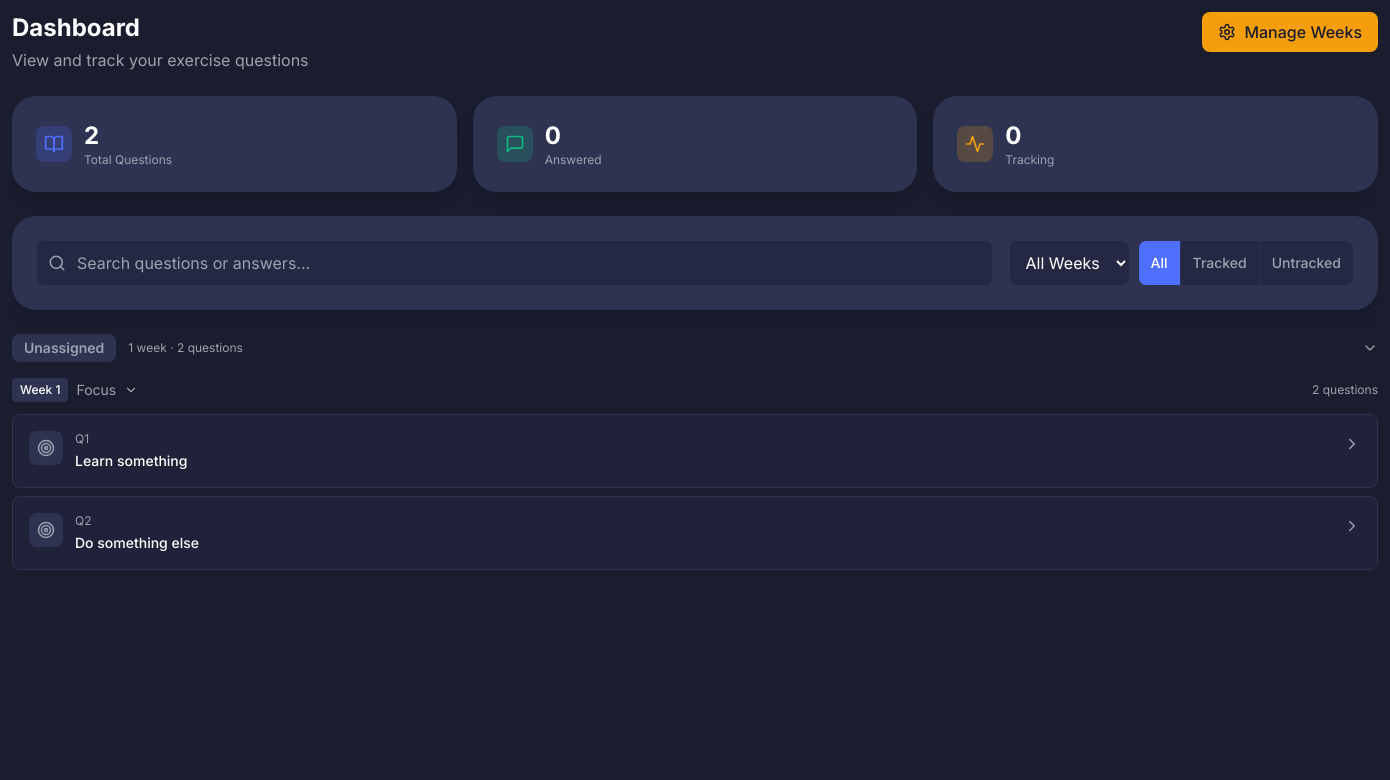
DashboardPage › filters questions by search query
Type "Learn" into the field with placeholder "Search questions or answers...".
click(514, 263); type("Learn")  # box [36, 240, 993, 286]
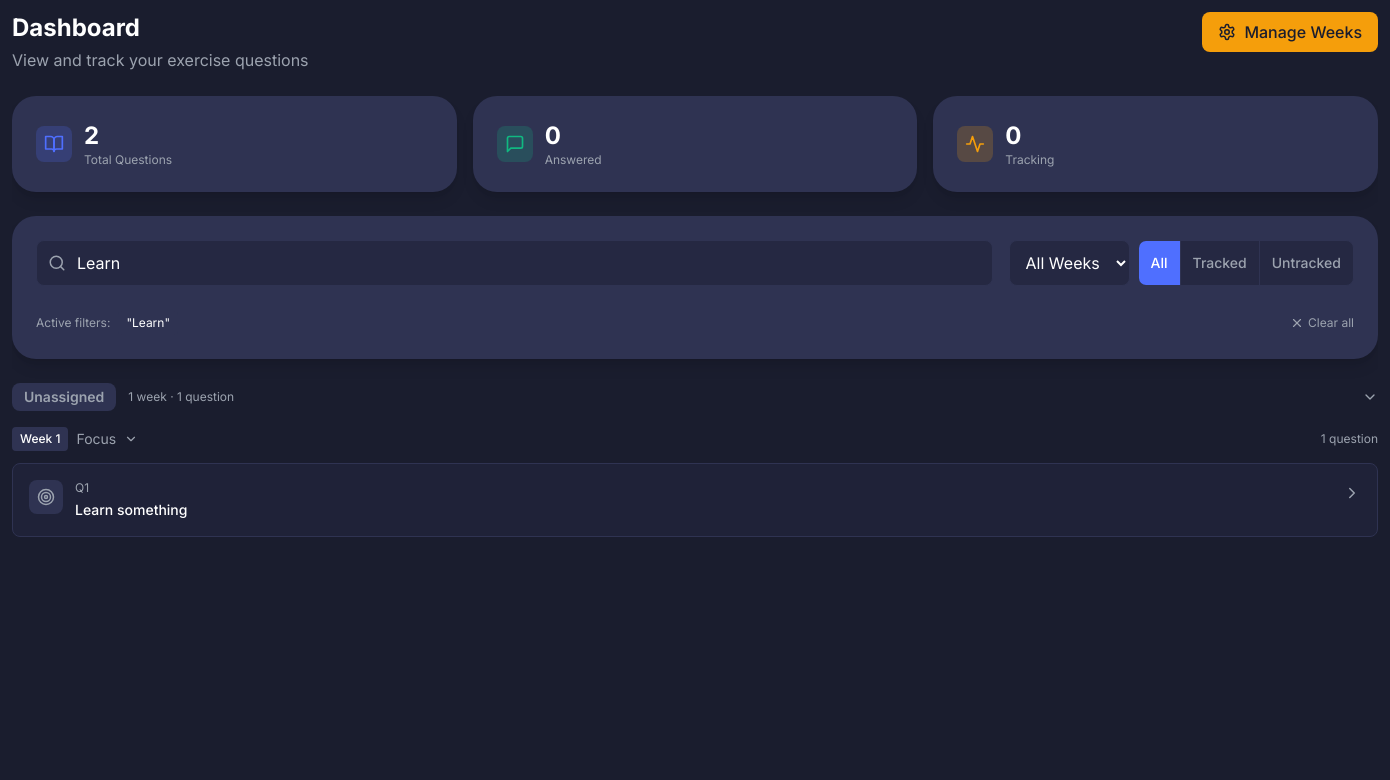
Check: the text "Learn something" is shown, box [75, 501, 188, 518]
Check: the button "Do something else" is gone
